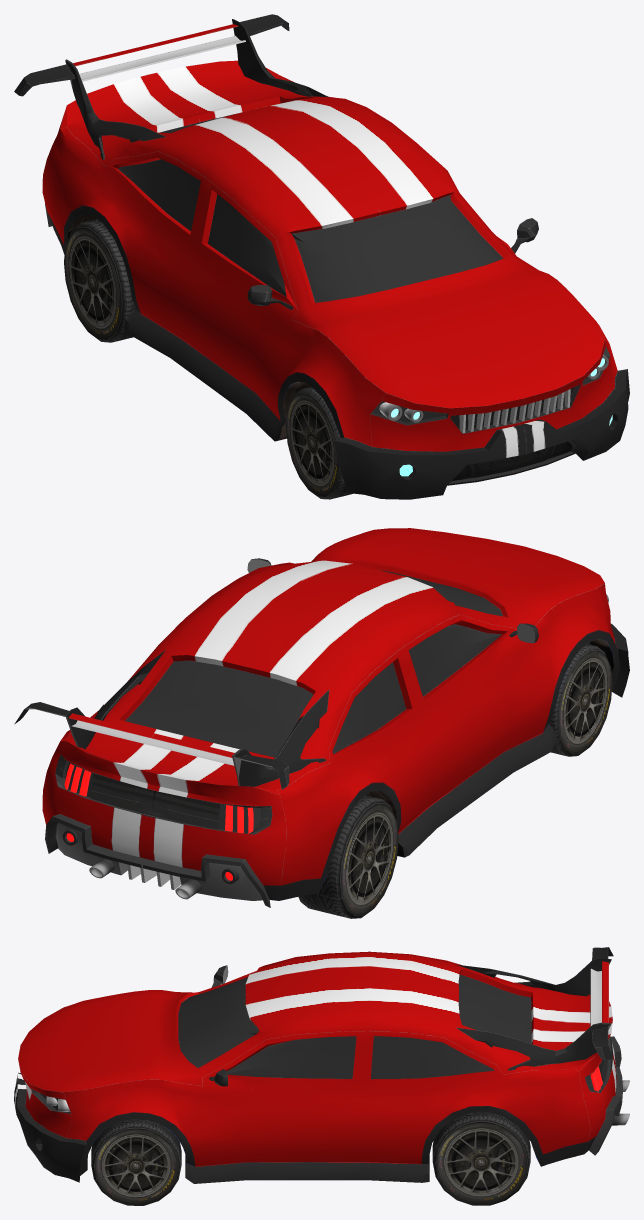
The model's file is carro3.gltf.
The picture shows the model from 3 angles, top to bottom: view 1: azimuth 30°, elevation 25°; view 2: azimuth 150°, elevation 25°; view 3: azimuth 270°, elevation 25°; orthographic projection. The views are drawn at different scales.
Parts seen in each view (by area): view 1: Car_2_Mat.5_2_0, wheel_3_Mat.5_0, wheel_1_5_Mat.5_0; view 2: Car_2_Mat.5_2_0, wheel_3_Mat.5_0, wheel_1_5_Mat.5_0, Car_2_Mat.4_0; view 3: Car_2_Mat.5_2_0, wheel_1_6_Mat.5_0, wheel_2_4_Mat.5_0.
Part boxes in pixels (x1,y1,x2,y2): Car_2_Mat.5_2_0: (14, 14, 629, 499); wheel_3_Mat.5_0: (64, 219, 135, 342); wheel_1_5_Mat.5_0: (286, 387, 352, 499); Car_2_Mat.5_2_0: (14, 528, 629, 907); wheel_3_Mat.5_0: (298, 795, 398, 918); wheel_1_5_Mat.5_0: (549, 644, 612, 756); Car_2_Mat.4_0: (64, 763, 253, 880); Car_2_Mat.5_2_0: (14, 947, 629, 1183); wheel_1_6_Mat.5_0: (432, 1112, 530, 1205); wheel_2_4_Mat.5_0: (91, 1119, 181, 1205).
Bounding box in the file's own units: 2.35 × 1.71 × 5.38.
4 materials, 2 textured.
